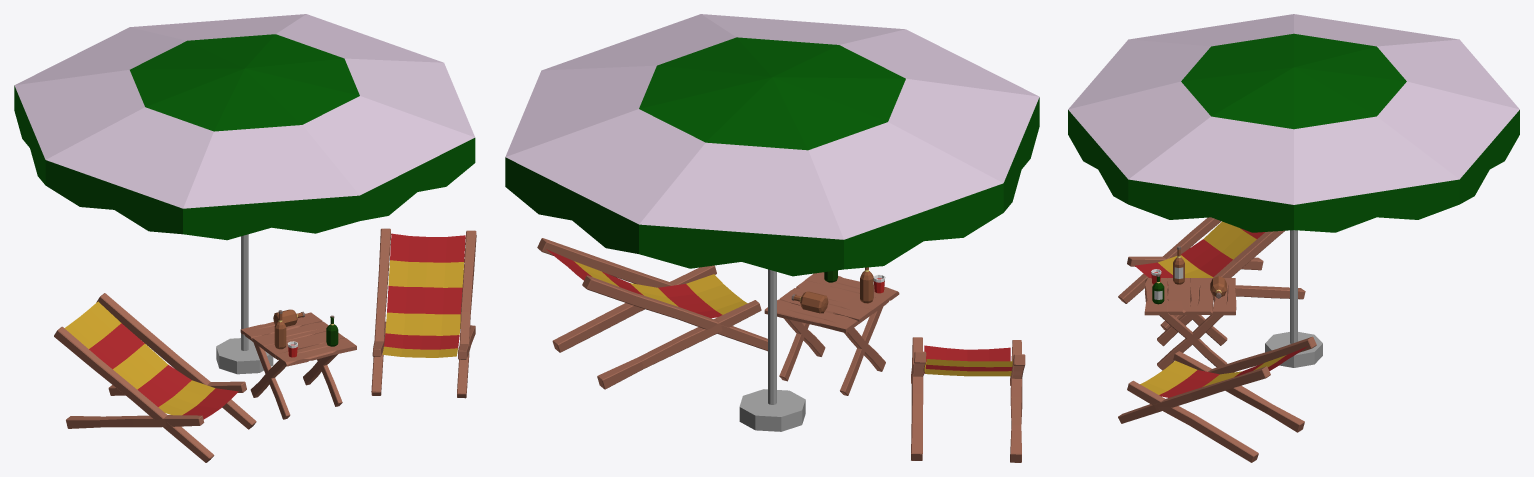
File: at_a_beach_modified.glb
3 views of the same model, side by side, from view 1: azimuth 30°, elevation 25°; view 2: azimuth 150°, elevation 25°; view 3: azimuth 270°, elevation 25° (orthographic). The views are drawn at different scales.
Parts seen in each view (by area): view 1: Plane.001_10, Cube.004_1, Cube.001_2, Cube.010_3, Cylinder.002_9; view 2: Plane.001_10, Cube.001_2, Cube.010_3, Cube.004_1, Cylinder.002_9, Cylinder_4; view 3: Plane.001_10, Cube.001_2, Cube.004_1, Cube.010_3, Cylinder.002_9.
Part boxes in pixels (<box>): Plane.001_10: <box>14,14,475,240</box>; Cube.004_1: <box>54,293,256,462</box>; Cube.001_2: <box>371,228,476,398</box>; Cube.010_3: <box>240,312,356,419</box>; Cylinder.002_9: <box>216,234,273,374</box>; Plane.001_10: <box>505,14,1039,276</box>; Cube.001_2: <box>537,238,767,389</box>; Cube.010_3: <box>764,272,899,395</box>; Cube.004_1: <box>911,337,1025,462</box>; Cylinder.002_9: <box>739,269,805,431</box>; Cylinder_4: <box>791,291,828,313</box>; Plane.001_10: <box>1068,14,1519,232</box>; Cube.001_2: <box>1118,336,1316,462</box>; Cube.004_1: <box>1118,217,1305,330</box>; Cube.010_3: <box>1144,278,1236,370</box>; Cylinder.002_9: <box>1265,230,1322,367</box>.
Size of the model in its own units: 9 by 6.14 by 8.51.
